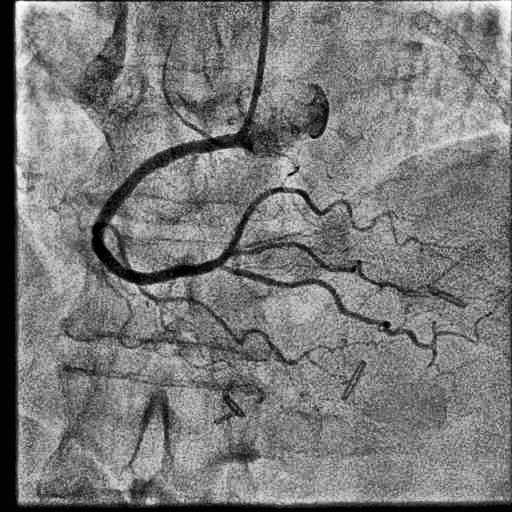pborca: (218, 187, 420, 262)
pda: (219, 264, 430, 349)
rca: (92, 134, 237, 285)
